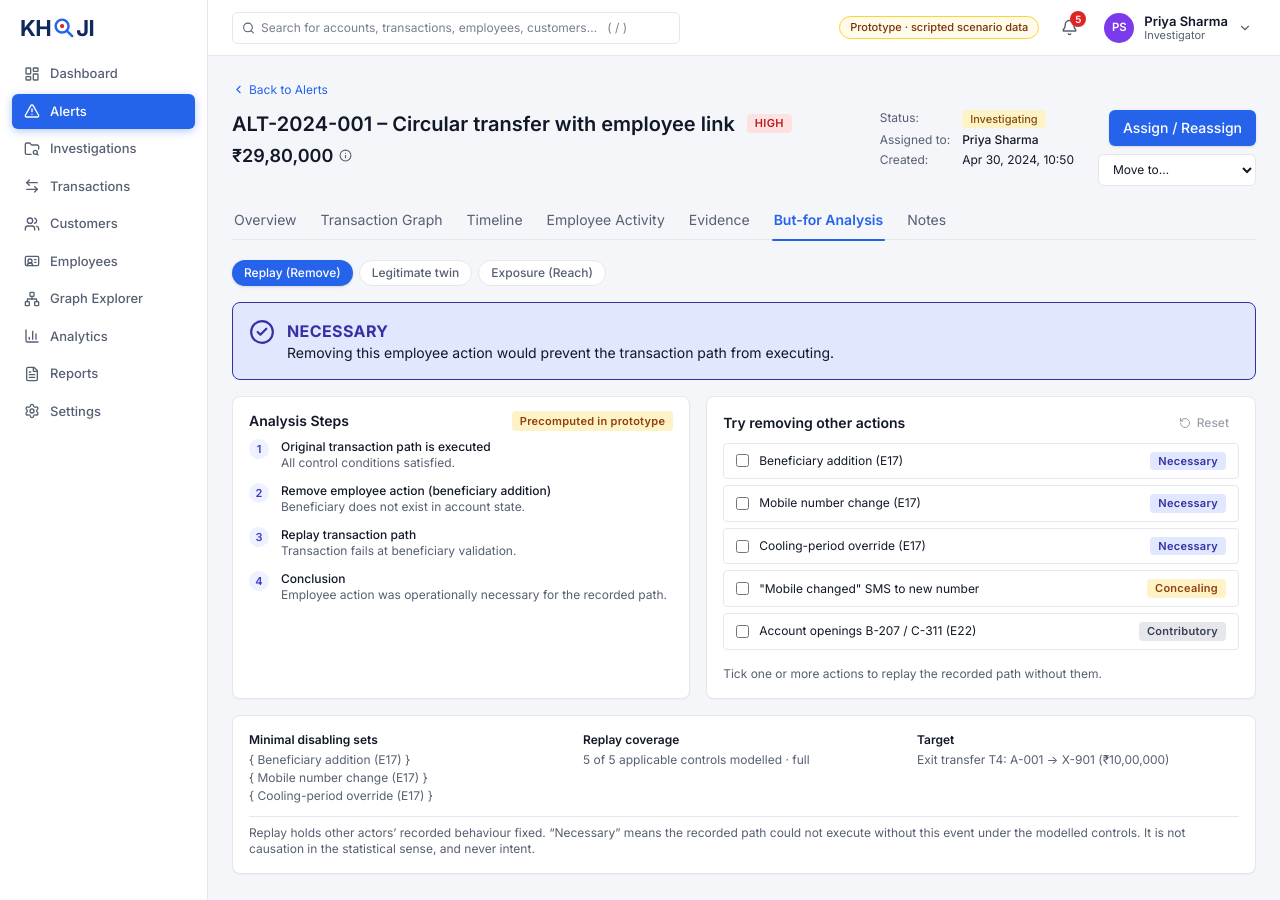
Test: But-for Replay UI › removing the mobile change makes the path FAIL and cascades on the timeline
The width and height of the screenshot is (1280, 900).
Click the checkbox labelled "Mobile number change (E17) Necessary". click: (743, 504)
box: [736, 497, 749, 510]
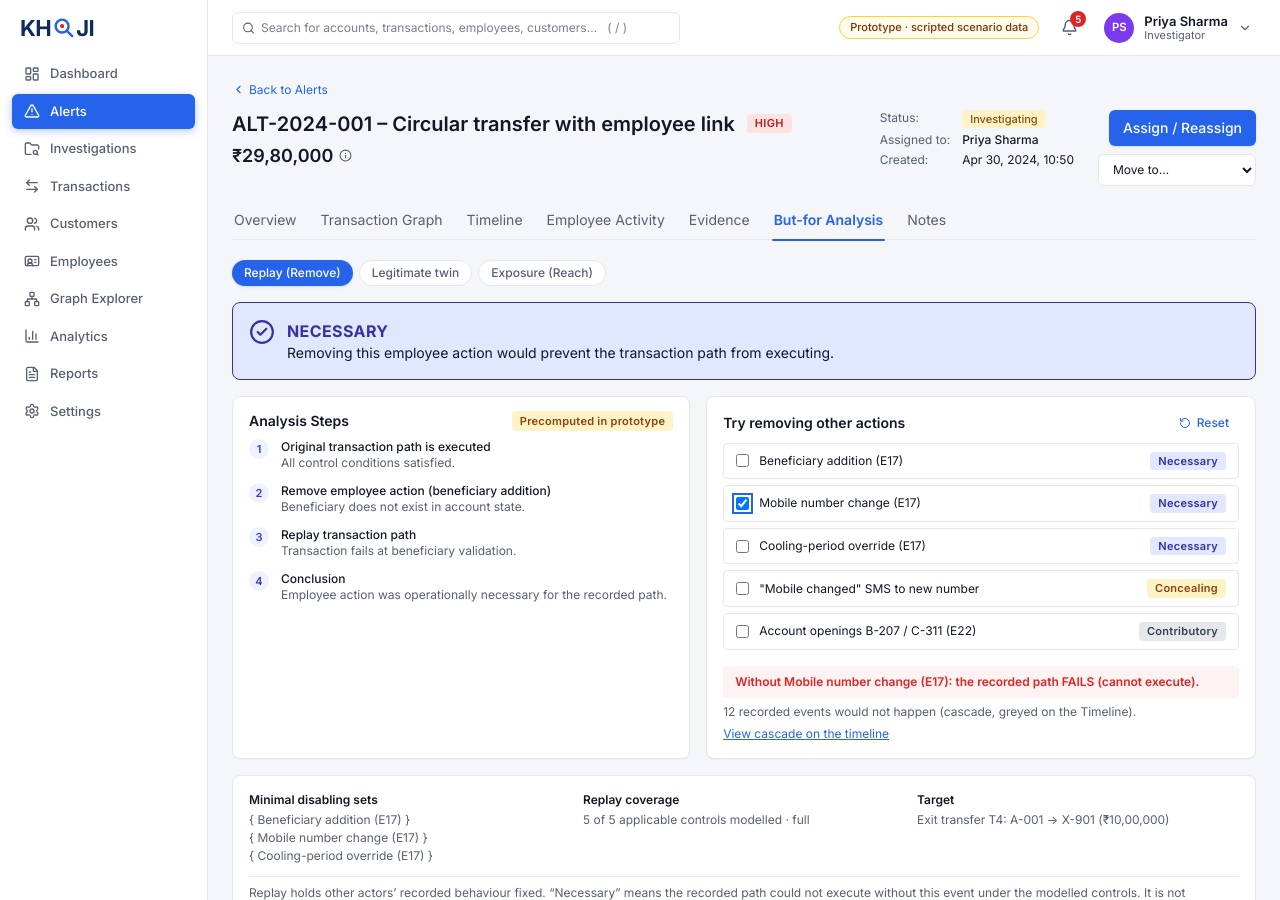
Result: the element with test id "replay-outcome" shows "FAILS" at [1062, 674, 1196, 689]
Click the button "View cascade on the timeline". click: (806, 734)
box: [723, 726, 889, 742]
(page scrolled)
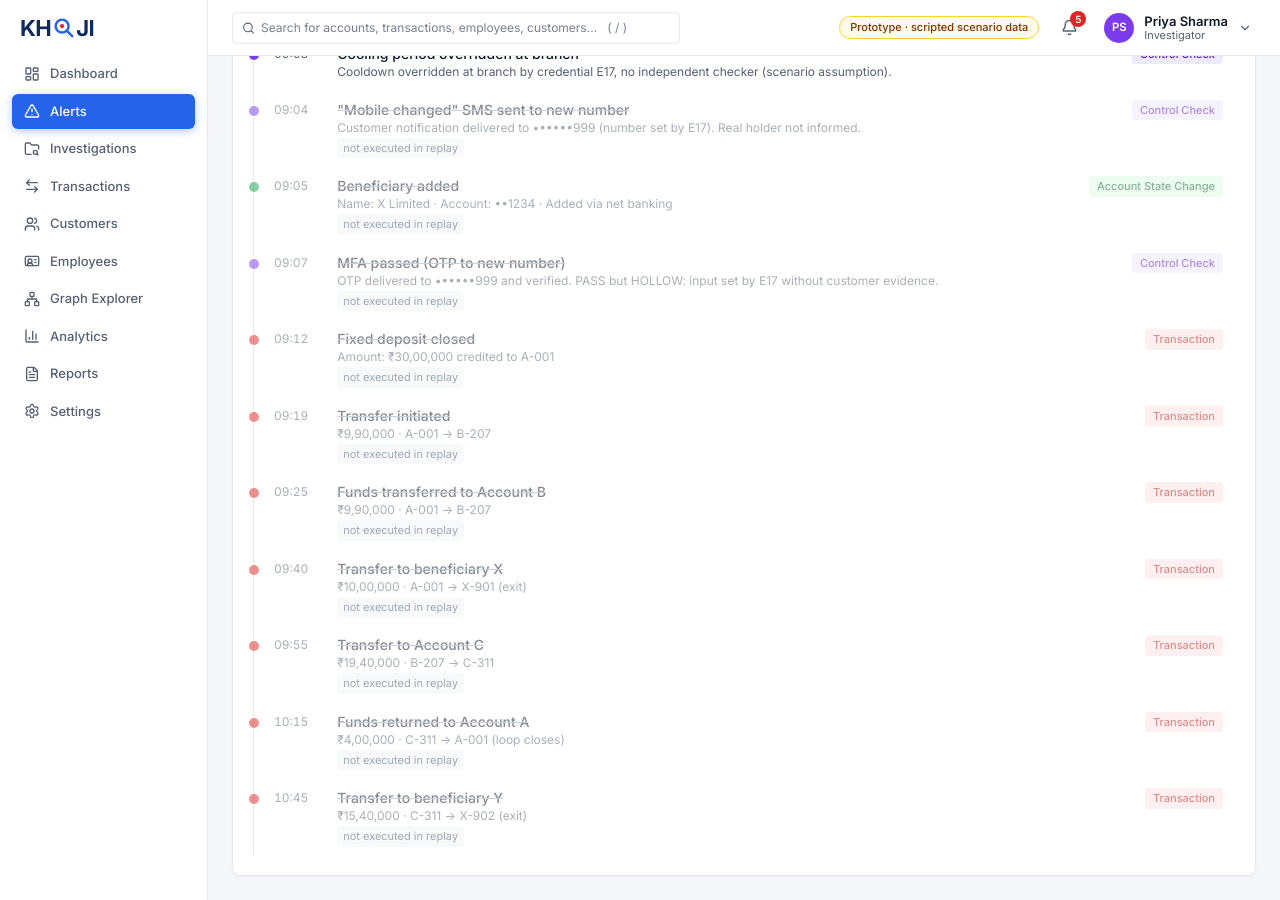
Result: the text "not executed in replay" below "₹10,00,000 · A-001 → X-901 (exit)" is shown at [343, 600, 458, 614]
